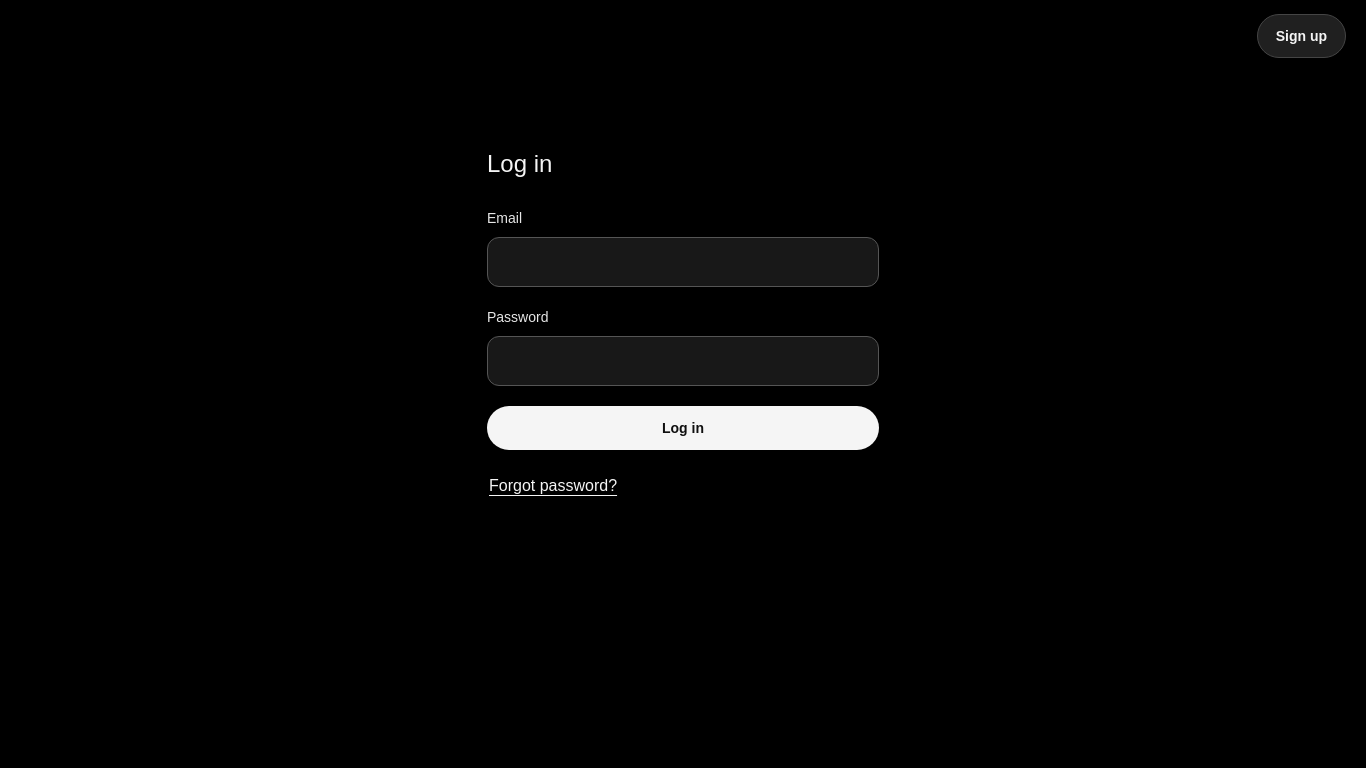
Test case: logs Employee in with scoped menu and logs out
This screenshot has width=1366, height=768.
Check: the heading "Log in" is shown, box [487, 150, 552, 177]
Type "employee@demo.test" into the field labelled "Email" at (683, 262), box [487, 237, 879, 287]
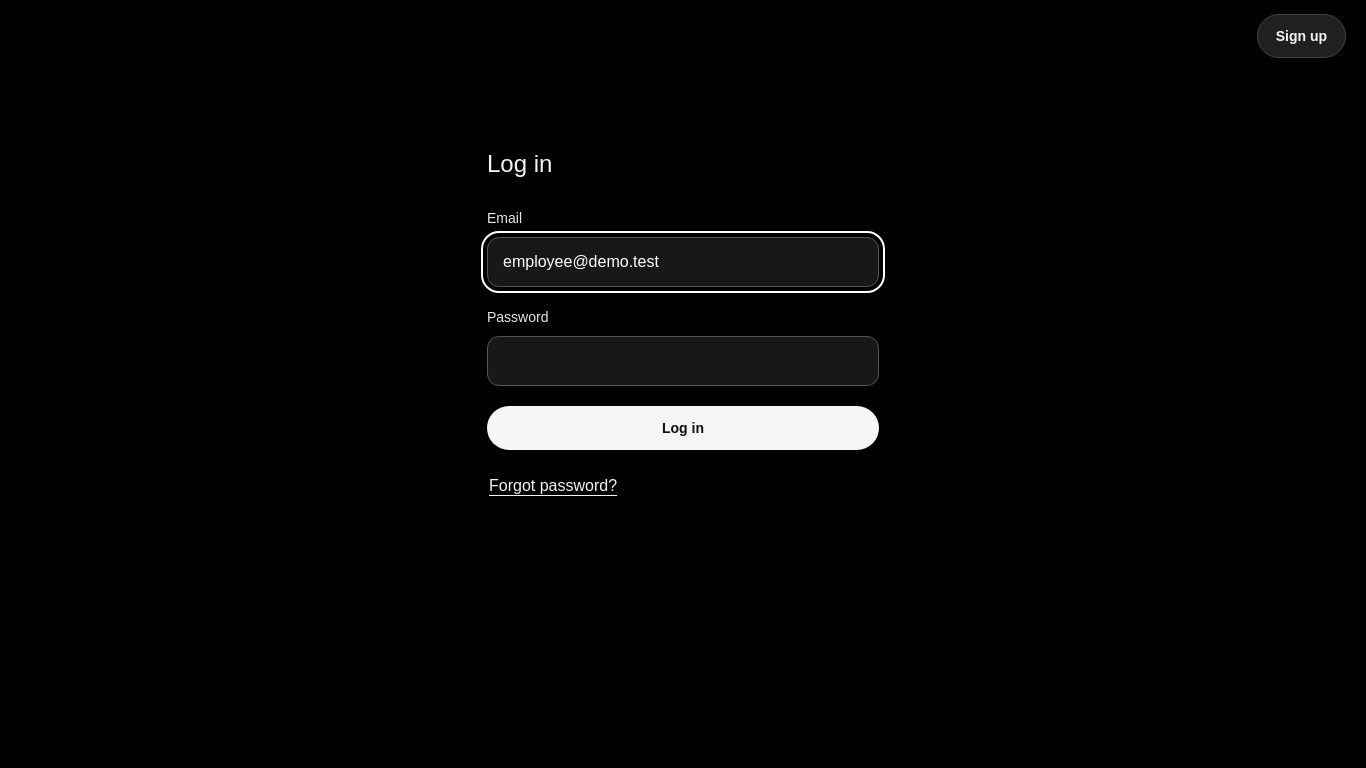
Type "Demo12345!" into the password field labelled "Password" at (683, 361), box [487, 336, 879, 386]
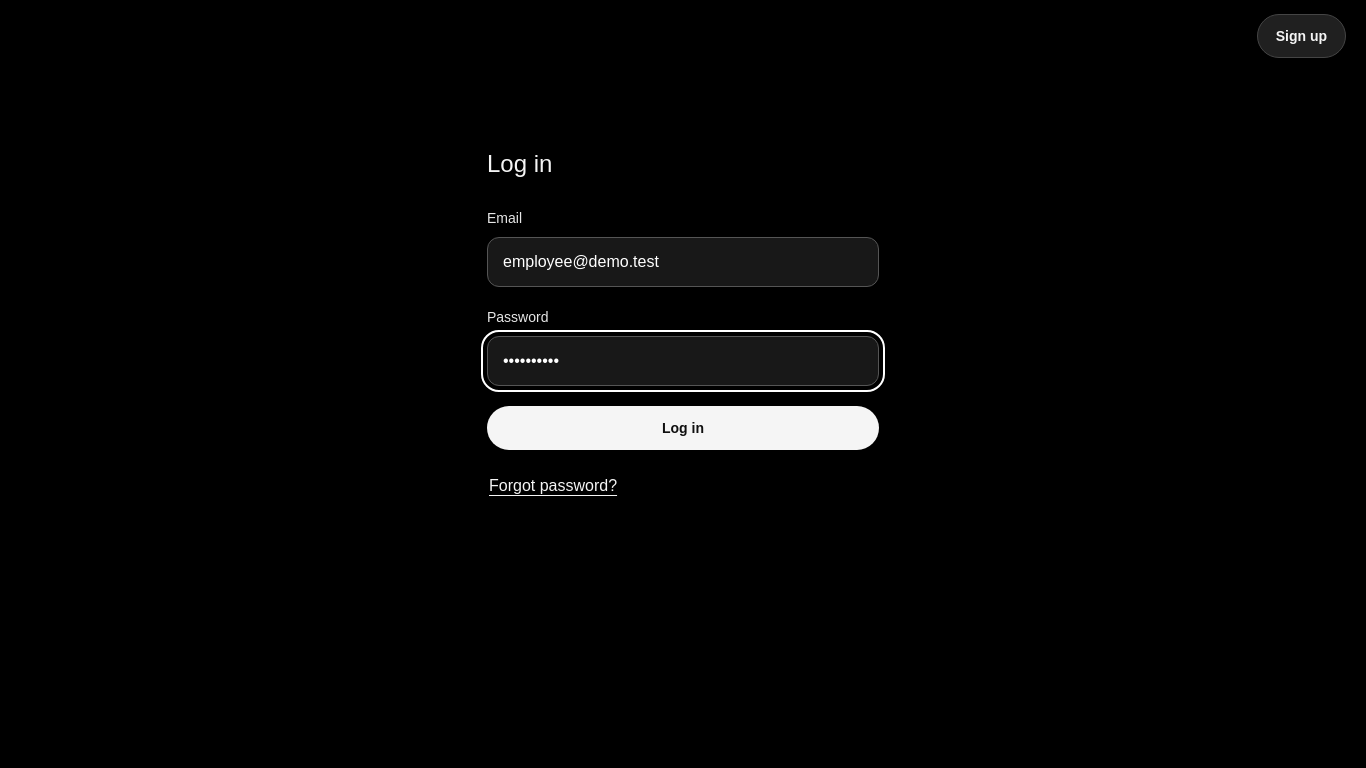
Click the button "Log in" at (683, 428), box [487, 406, 879, 450]
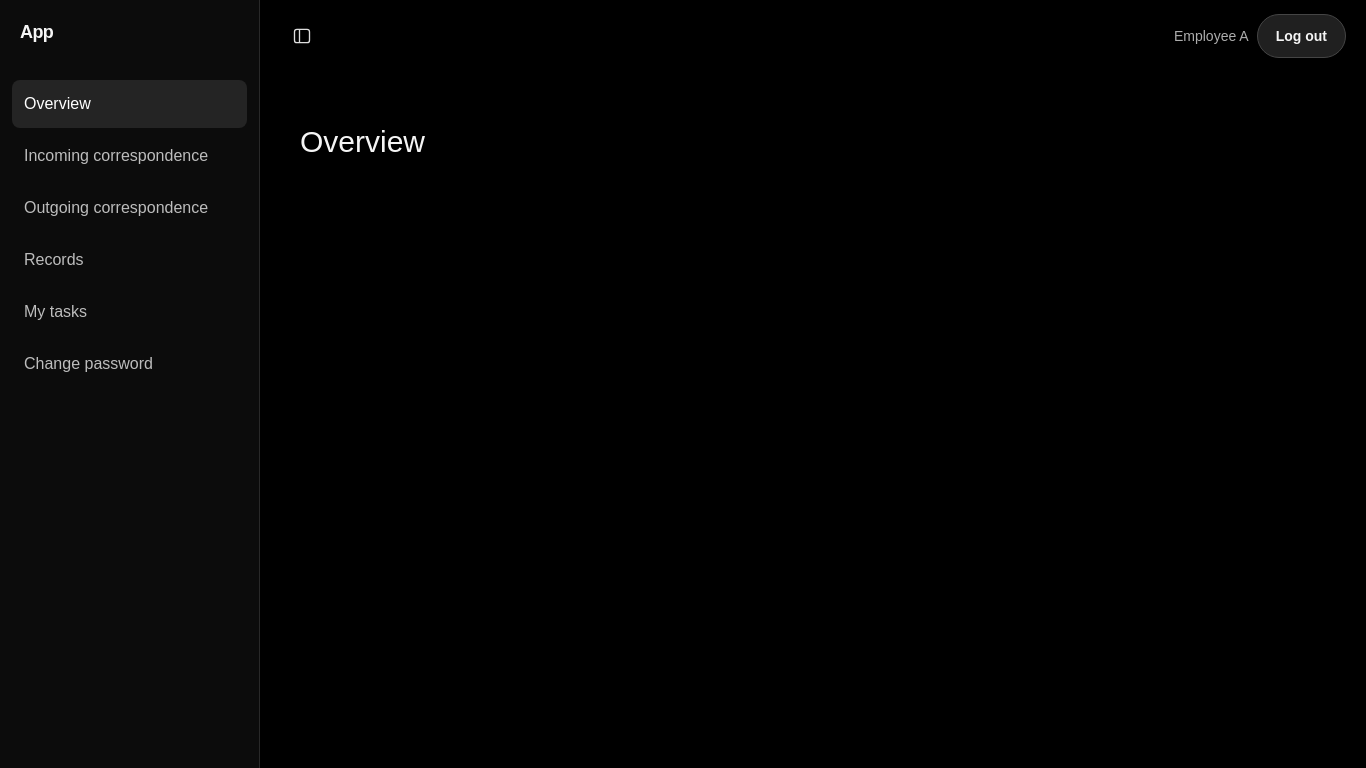
Check: the heading "Overview" is shown, box [300, 125, 425, 158]
Check: the element named "Sidebar" is shown, box [0, 0, 260, 767]
Check: the button named "Close sidebar" is shown, box [280, 14, 324, 58]
Click the button "Log out" at (1301, 36), box [1257, 14, 1346, 58]
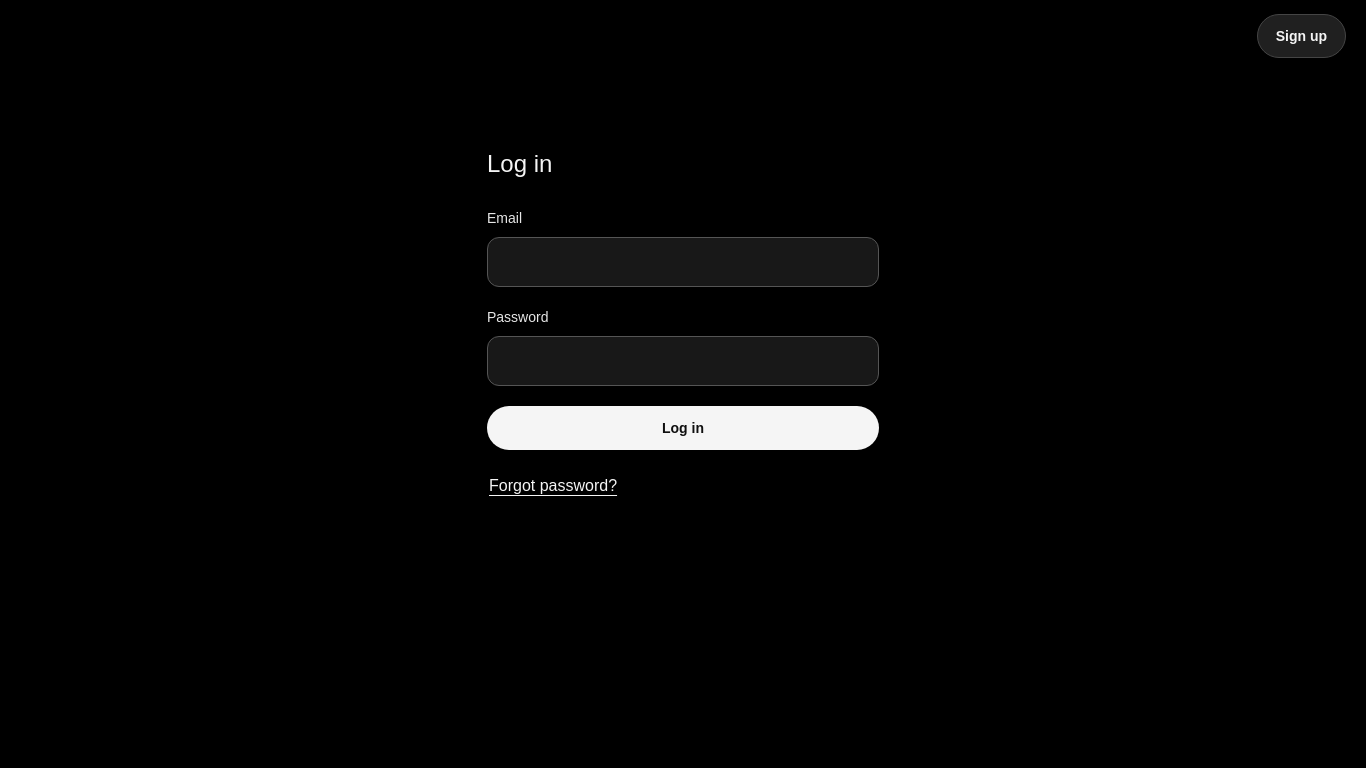
Check: the heading "Log in" is shown, box [487, 150, 552, 177]
Check: the element "Sidebar" is gone
Check: the button "sidebar" is gone
